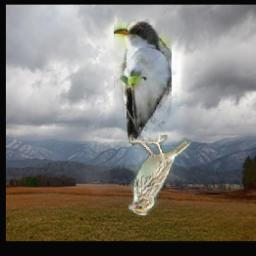Cuckoo: (113, 20, 171, 147)
Sparrow: (128, 134, 191, 216)
